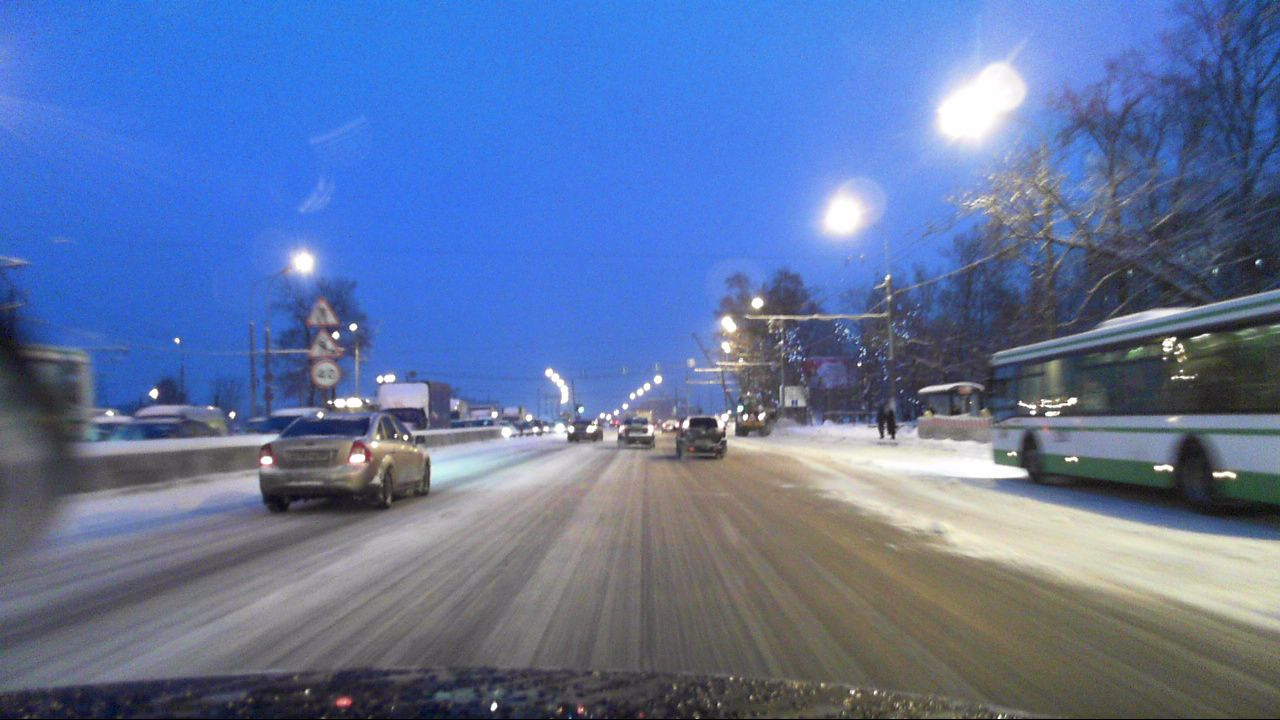speed_warning_40: (309, 358, 340, 386)
